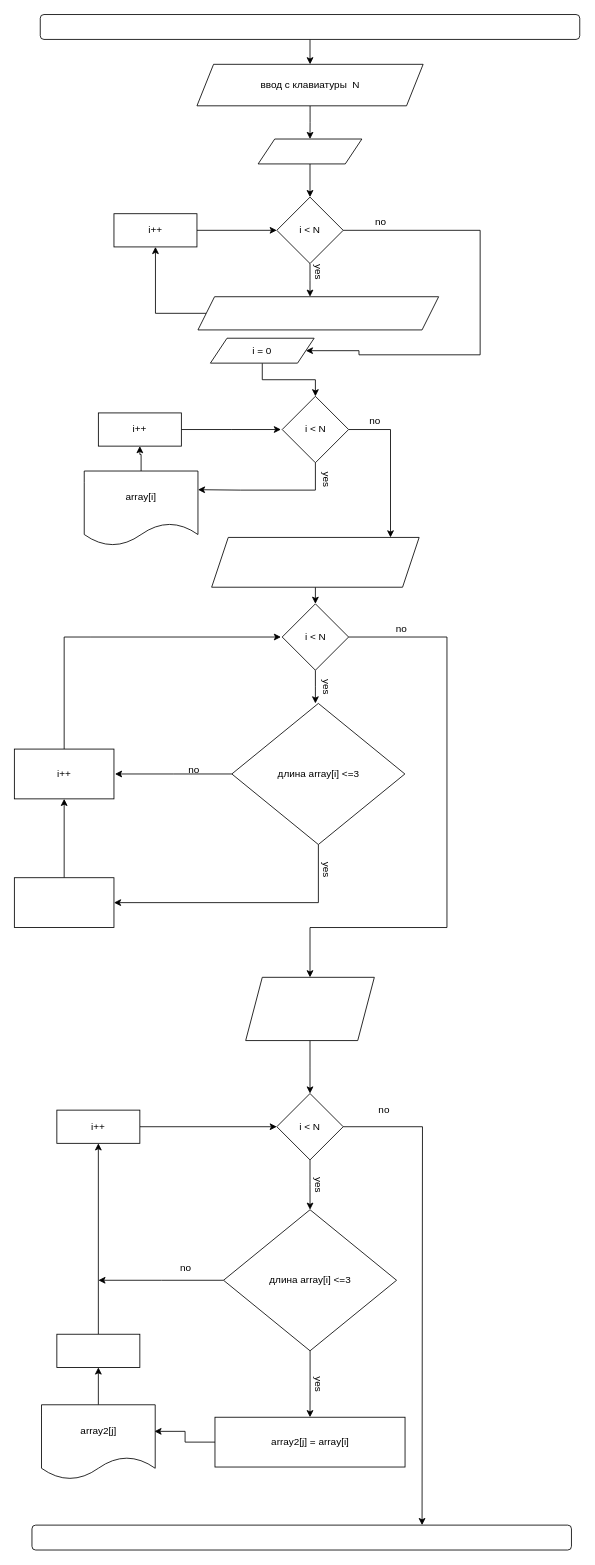
Some shapes in this 595 by 1565 pixel diagram are drawn without their labels. The shapes that lost their labels are listed below. From the top down, each one's box as (x1, y1, x2, y2) in pixels, then its label:
(39, 14, 580, 39): старт
(257, 138, 362, 164): array[N] i = 0
(197, 296, 439, 330): ввод с клавиатуры array[i]
(211, 537, 419, 587): i = 0 , count = 0
(14, 877, 114, 928): count ++
(245, 976, 374, 1041): array2[count] i = 0 j = 0
(56, 1333, 140, 1367): j++
(31, 1524, 571, 1550): конец
